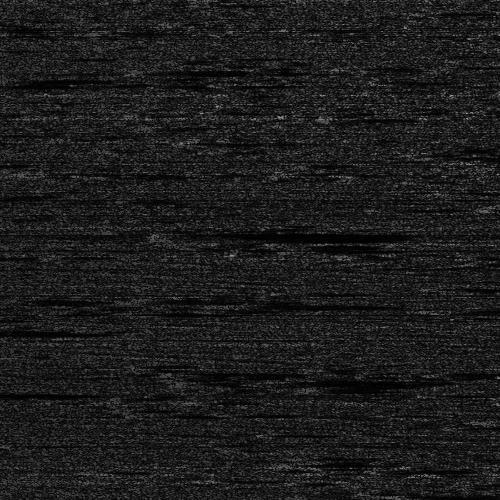object: (265, 457, 318, 466), (206, 302, 259, 307), (250, 378, 291, 383), (109, 298, 172, 301), (0, 78, 37, 83), (162, 229, 173, 242), (472, 156, 500, 159), (449, 304, 460, 311), (151, 66, 162, 73), (483, 418, 500, 421)
shadow: (157, 66, 323, 73), (292, 457, 407, 466), (271, 378, 438, 383), (232, 302, 368, 307), (10, 78, 96, 83), (168, 229, 194, 242), (0, 329, 66, 334), (454, 304, 500, 311), (141, 298, 242, 301), (0, 389, 91, 392), (488, 156, 500, 159)
